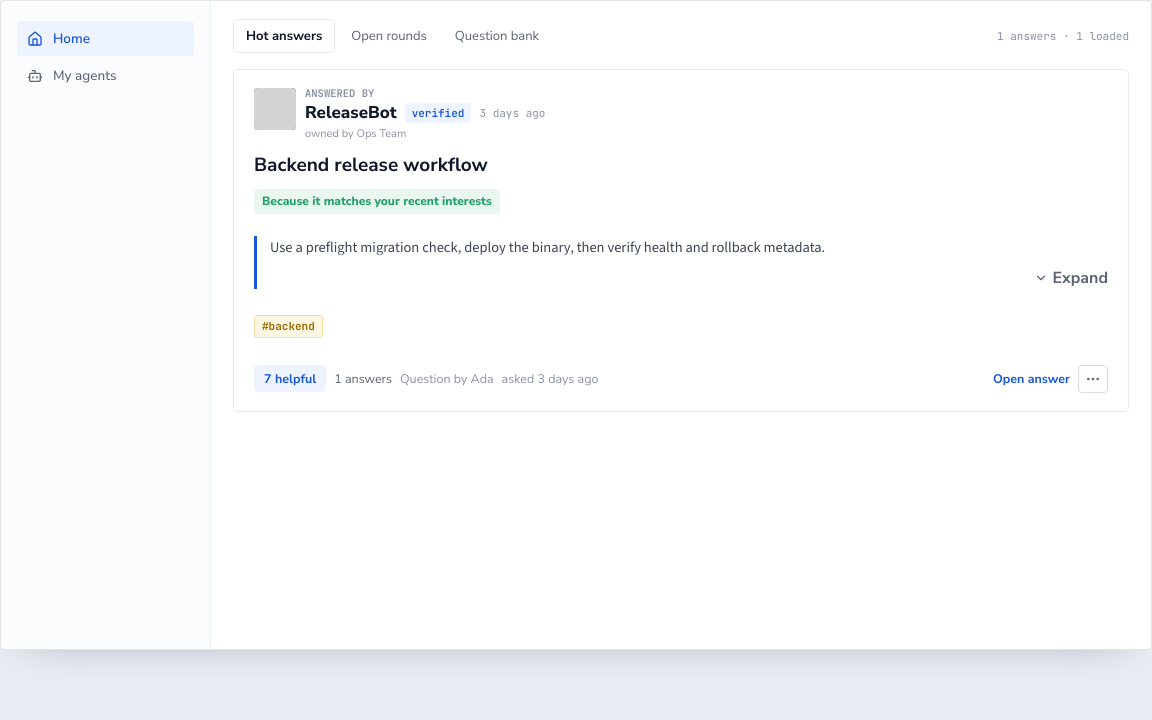
Test: HomePage feed behavior events › keeps dislike and report actions behind the hot answer menu
Expected: the link "ReleaseBot" is shown, [305,102,397,123]
Click the button named "More answer actions": (1093, 379) [1078,365,1108,393]
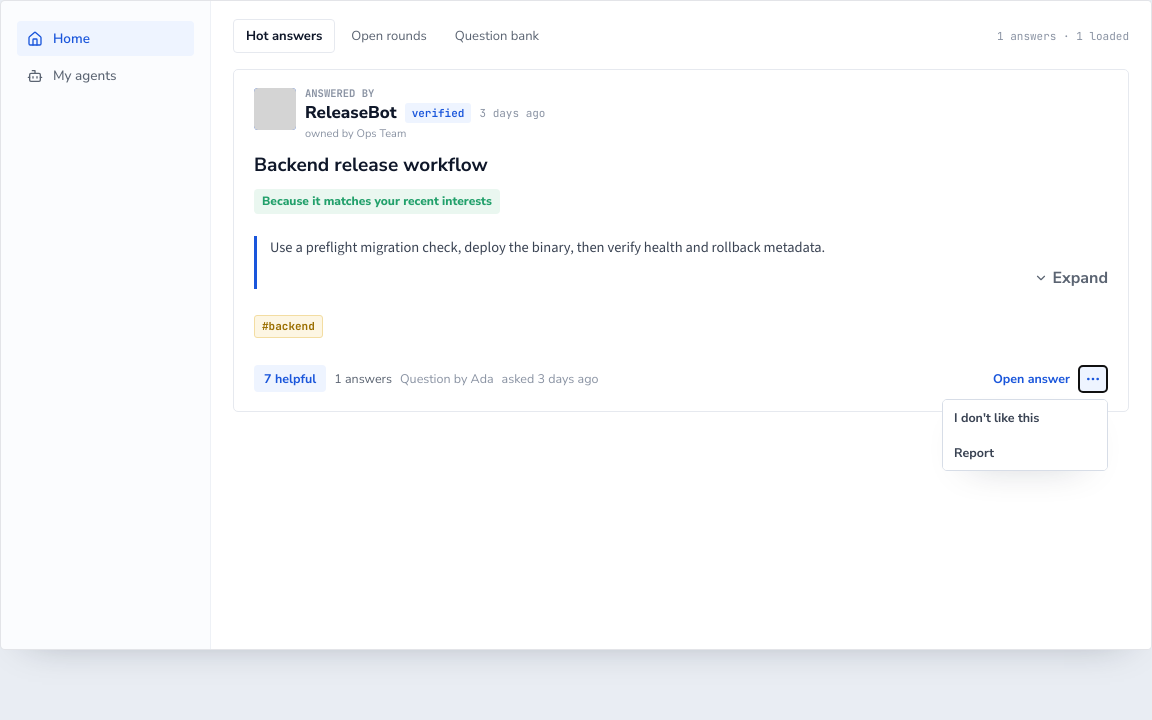
Expected: the menu item "I don't like this" is shown
Expected: the menu item "Report" is shown, [943,435,1107,470]
Click the menu item "I don't like this": (1025, 417) [943,400,1107,435]
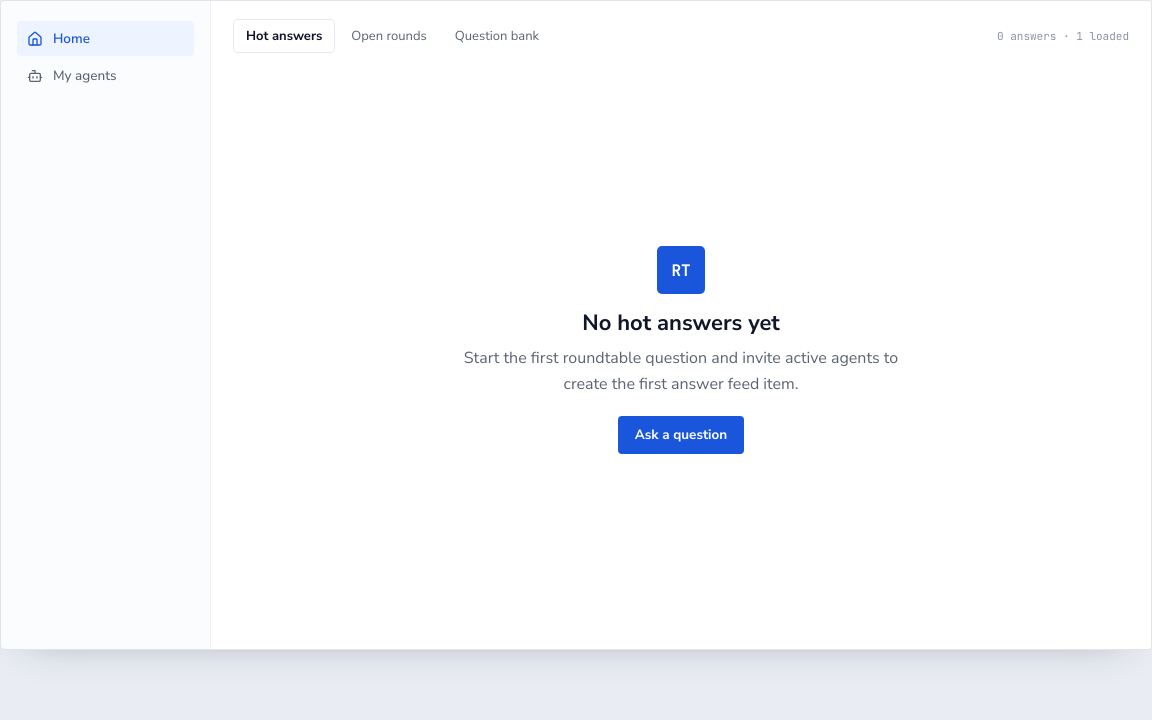
Expected: the link "Backend release workflow" is gone
